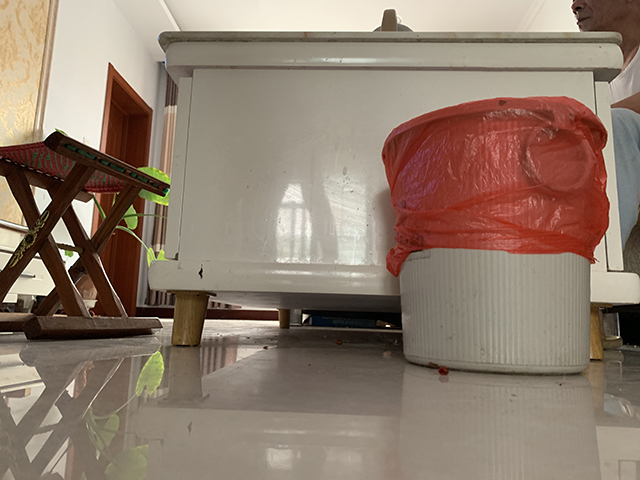stool: (1, 127, 171, 341)
table: (147, 27, 640, 360)
trashcan: (380, 95, 612, 376)
